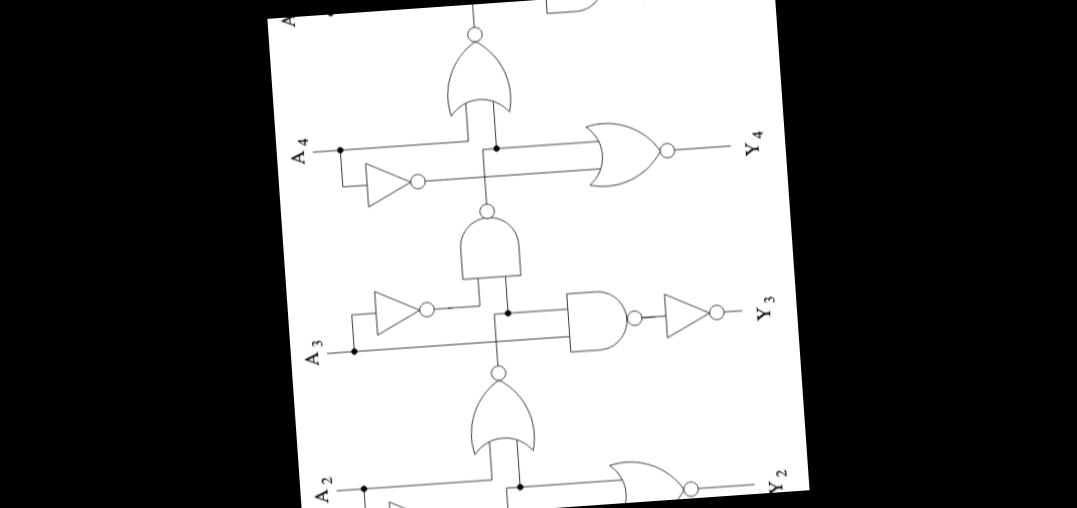nand: (448, 194, 530, 287), (560, 274, 651, 357), (536, 0, 625, 19)
nor: (581, 105, 684, 190), (458, 356, 544, 457), (440, 19, 518, 119), (603, 444, 702, 504)
not: (654, 278, 732, 340), (367, 270, 439, 336), (360, 155, 432, 209), (381, 491, 452, 508)
